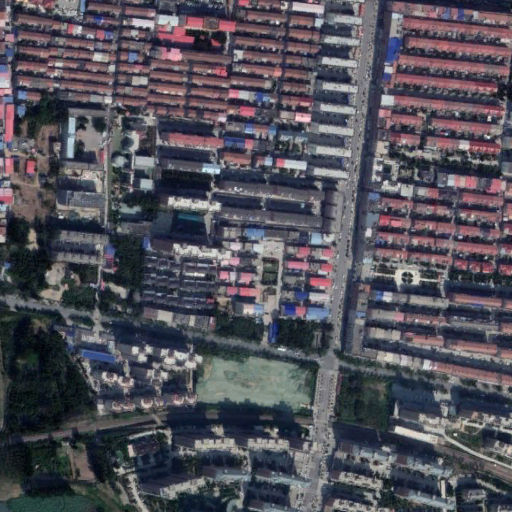cw: (193, 355, 313, 413)
